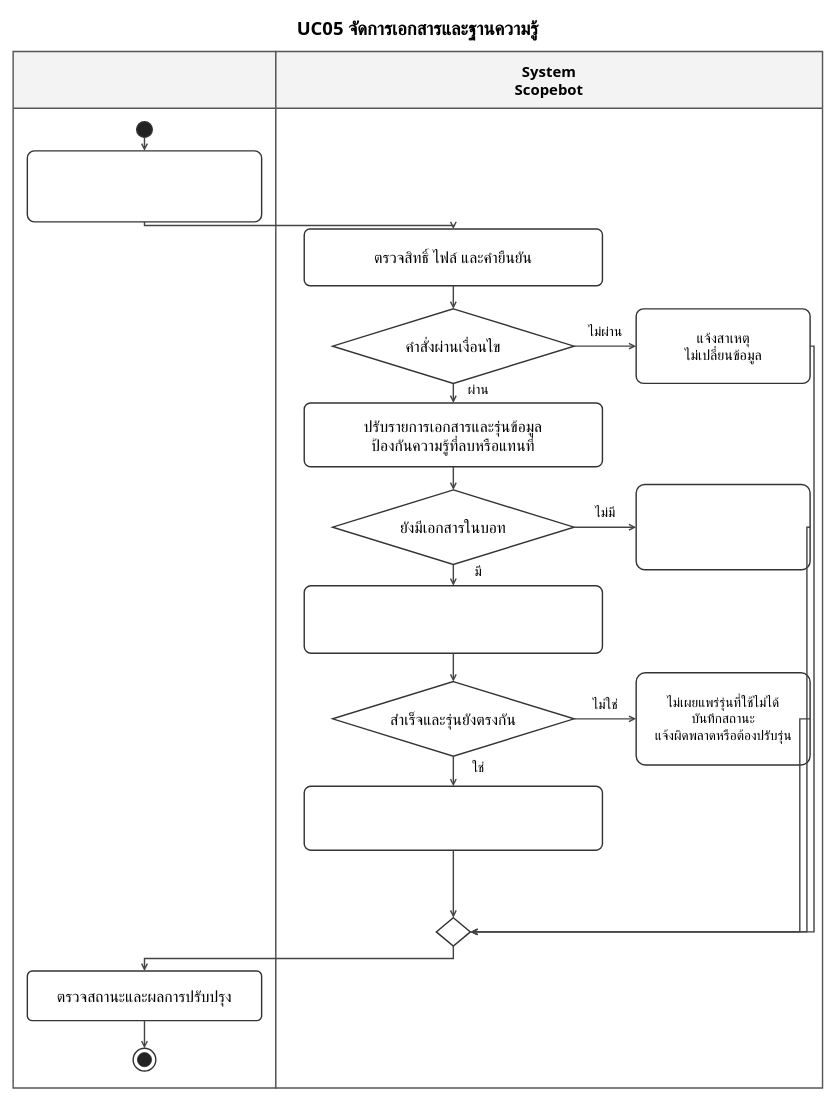
Some shapes in this 835 by 1101 pixel diagram are drawn without their labels. Each missing label, with the box of its shape:
Actor User / Admin เจ้าของบอท: (12, 50, 276, 1088)
กำหนด inactive ยกเลิก active index ไม่สร้างดัชนีใหม่: (635, 484, 810, 570)
สร้างดัชนี ChromaDB รุ่นใหม่ อ่าน แบ่งข้อความ สร้างเวกเตอร์: (303, 585, 603, 654)
เผยแพร่ฐานความรู้รุ่นใหม่ บันทึกสถานะพร้อมใช้งาน: (303, 785, 603, 851)
เลือกเพิ่ม แทนที่ หรือนำออก เลือกบอทและยืนยันตามกรณี: (26, 150, 262, 222)
